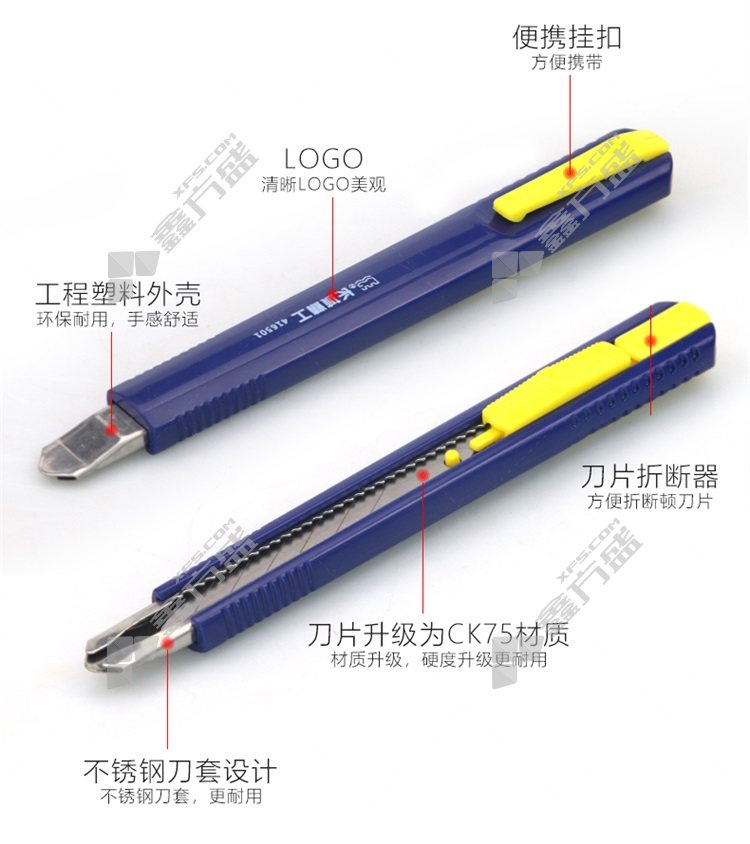cutter: (81, 297, 719, 678), (36, 122, 675, 483)
